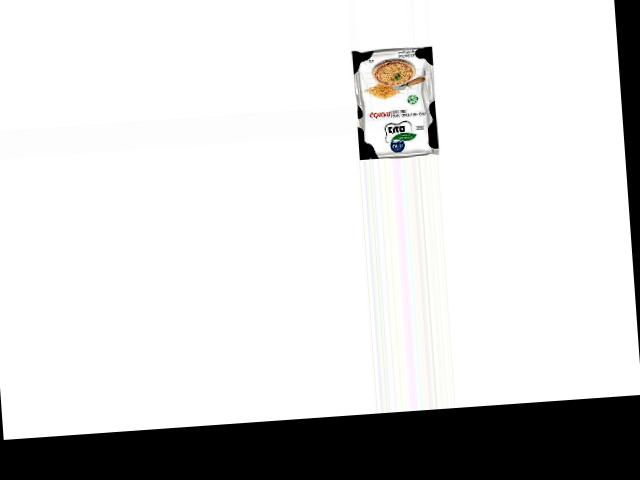cheese: (349, 43, 440, 161)
